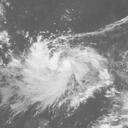cyclone: (14, 39, 111, 110)
